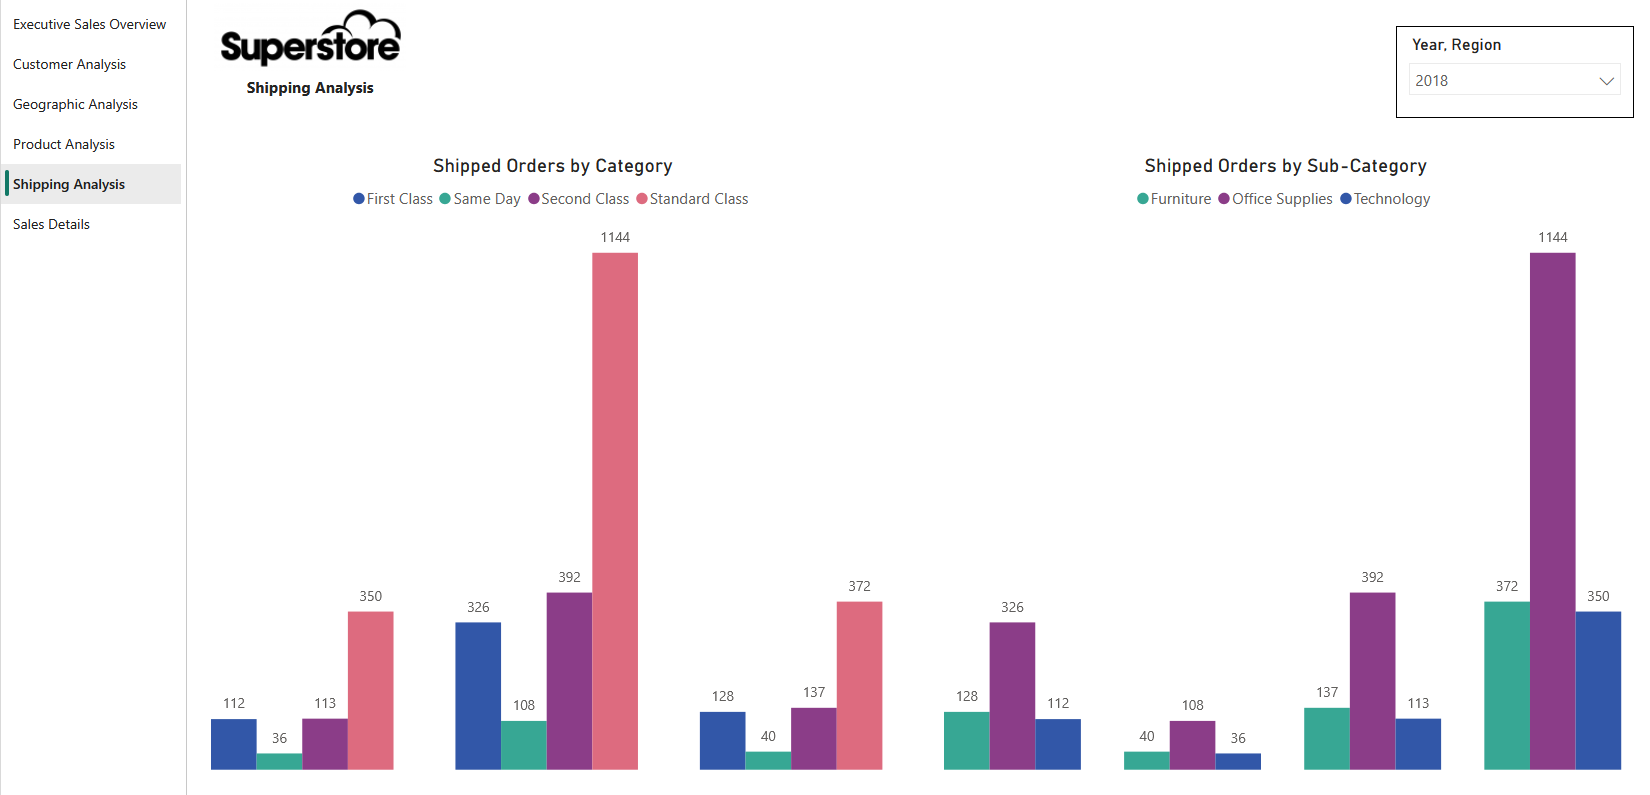

This screenshot's page, from the dashboard's own definition file:
{"tool":"powerbi","page":{"name":"Shipping Analysis","canvas":[1280,720],"ordinal":4},"visuals":[{"type":"image","box":[24,16,168,88],"z":0},{"type":"clusteredColumnChart","title":"Order Date by Category and Ship Mode","fields":{"Category":["Super Store Dataset.Category"],"Series":["Super Store Dataset.Ship Mode"],"Y":["CountNonNull(Super Store Dataset.Ship Date)"]},"box":[16,144,608,544],"z":1000},{"type":"clusteredColumnChart","title":"Order Date by Category and Ship Mode","fields":{"Series":["Super Store Dataset.Category"],"Category":["Super Store Dataset.Ship Mode"],"Y":["CountNonNull(Super Store Dataset.Sub-Category)"]},"box":[656,144,608,544],"z":2000},{"type":"slicer","title":"Filter by","fields":{"Values":["Super Store Dataset.Region","Super Store Dataset.Order Date Hierarchy.Year"]},"box":[1056,32,208,80],"z":3000},{"type":"textbox","box":[16,96,192,32],"z":4000}]}

Visuals, with their boxes on the page's 1280x720 design canvas (x1, y1, x2, y2). These are canvas units, not pixel positions in the 1650x795 screenshot, which may show the page scaled, cropped or inside an application window:
image: select_region(24, 16, 192, 104)
"Order Date by Category and Ship Mode" clusteredColumnChart: select_region(16, 144, 624, 688)
"Order Date by Category and Ship Mode" clusteredColumnChart: select_region(656, 144, 1264, 688)
"Filter by" slicer: select_region(1056, 32, 1264, 112)
textbox: select_region(16, 96, 208, 128)
